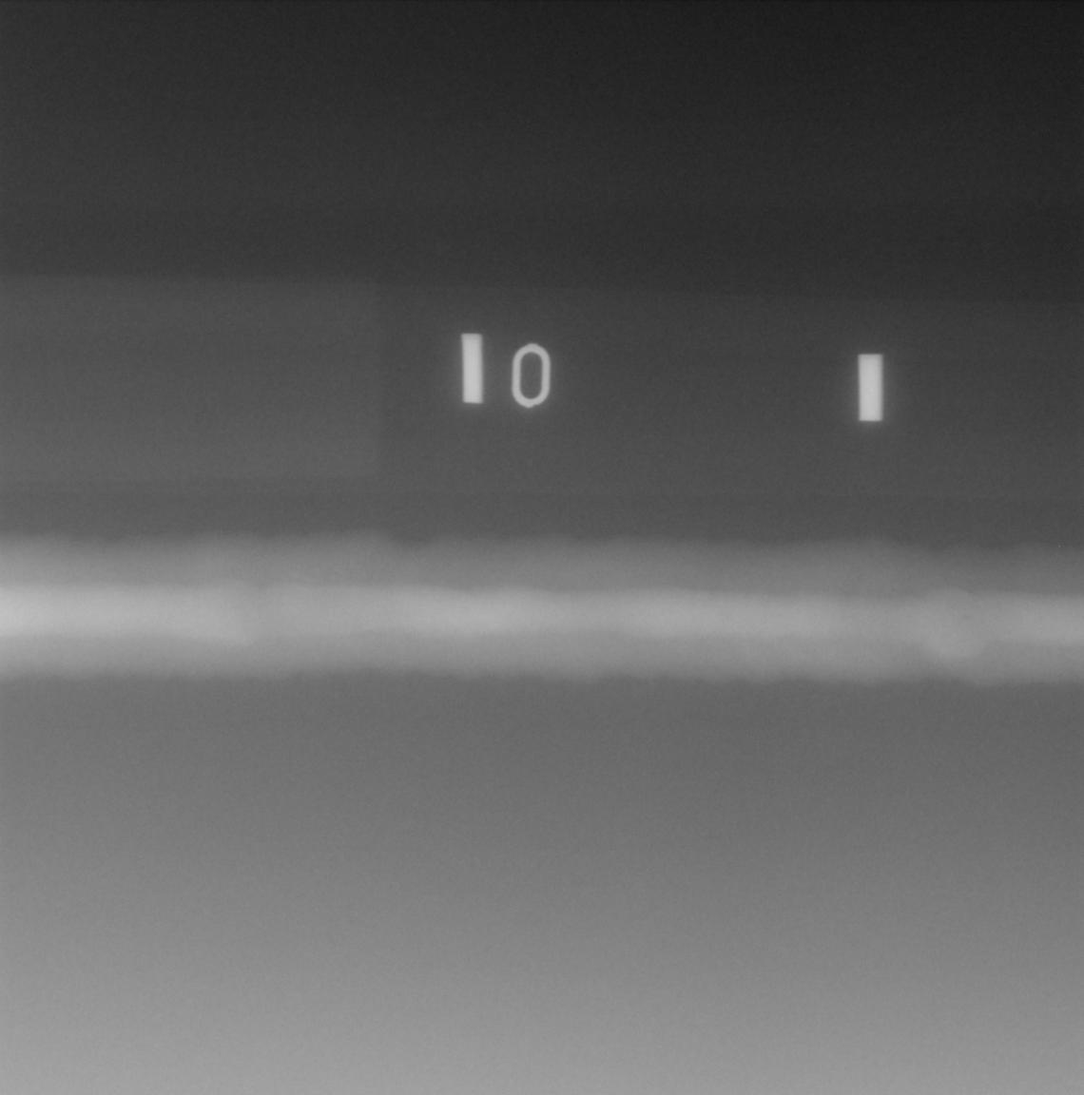Pore/Porosity: (962, 615, 968, 619)
